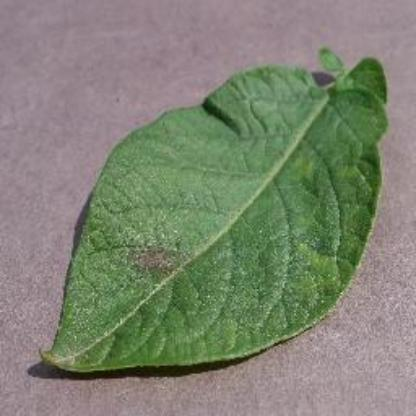Late-Blight: (9, 14, 396, 402)
